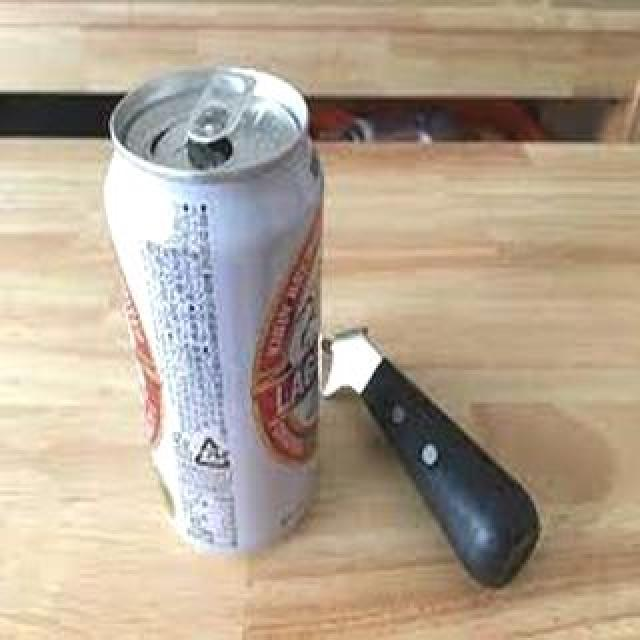Can: (93, 67, 325, 563)
